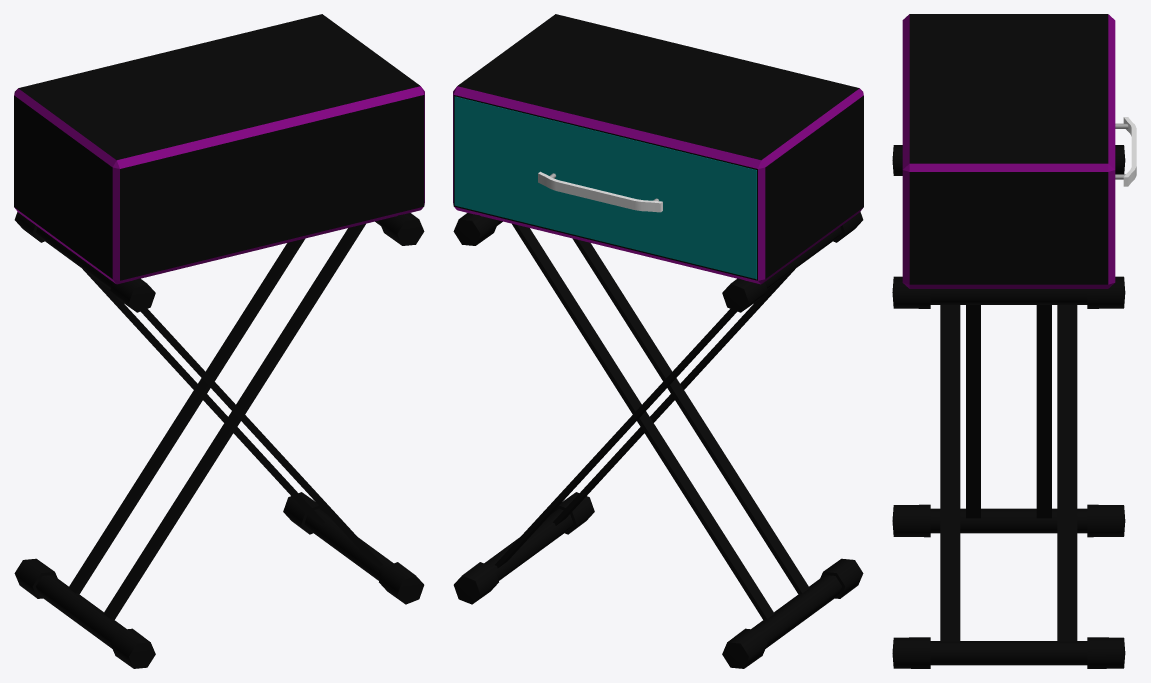
Rendered from WW_draw_prop.fbx.
3 views of the same model, side by side, from view 1: azimuth 30°, elevation 25°; view 2: azimuth 150°, elevation 25°; view 3: azimuth 270°, elevation 25° (orthographic).
Parts seen in each view (by area): view 1: housing_geo, Leg_2_geo, Leg_1_geo; view 2: housing_geo, drawer_geo, Leg_2_geo, Leg_1_geo; view 3: housing_geo, Leg_1_geo, Leg_2_geo, drawer_geo.
Boxes of the visible parts, x1,y1,x2,y2 form: housing_geo: (14, 14, 424, 284); Leg_2_geo: (14, 213, 424, 668); Leg_1_geo: (14, 212, 424, 604); housing_geo: (453, 14, 863, 284); drawer_geo: (454, 96, 756, 278); Leg_2_geo: (453, 213, 863, 668); Leg_1_geo: (453, 212, 863, 604); housing_geo: (902, 14, 1115, 288); Leg_1_geo: (892, 145, 1125, 668); Leg_2_geo: (892, 276, 1125, 537); drawer_geo: (1115, 117, 1136, 186).
Bounding box in the file's own units: 56.26 × 87.39 × 37.76.
